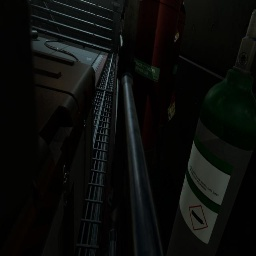0: (166, 9, 256, 256)
NitrogenTank ,: (121, 0, 181, 199), (151, 0, 186, 167)
